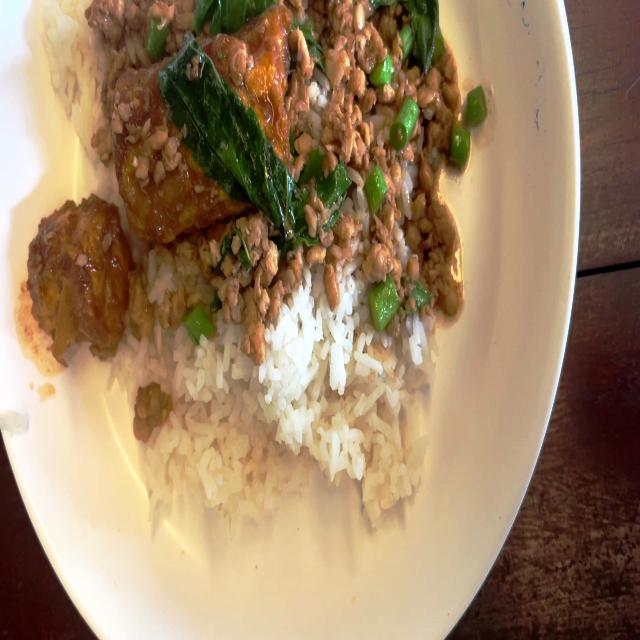fried_tofo: (100, 36, 290, 198), (28, 203, 139, 351)
minced_pork: (305, 0, 473, 324), (140, 232, 342, 316), (86, 0, 300, 34)
rice: (143, 326, 444, 526)
stir_fried_basil: (25, 0, 473, 527)
